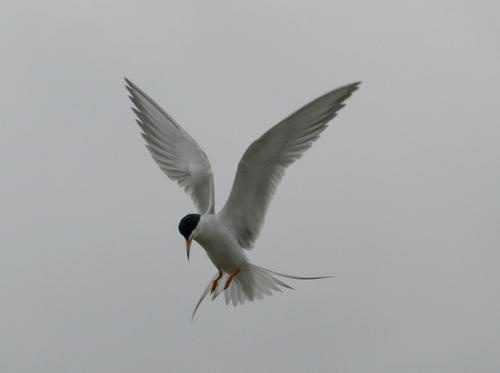bird: (115, 80, 363, 321)
